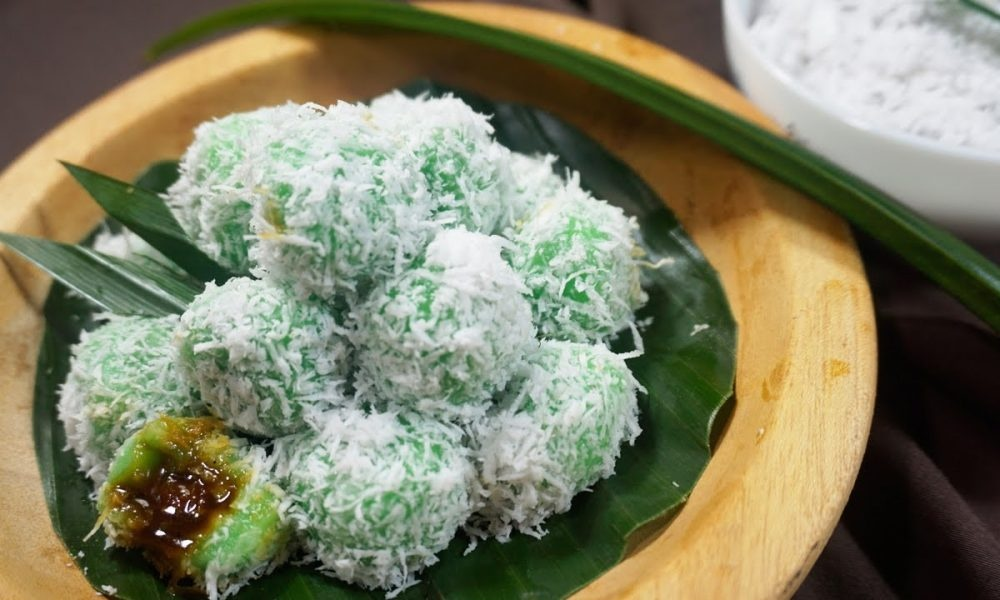klepon: (104, 262, 349, 431), (348, 216, 533, 429), (93, 417, 301, 582), (283, 416, 488, 579), (243, 138, 414, 304)
